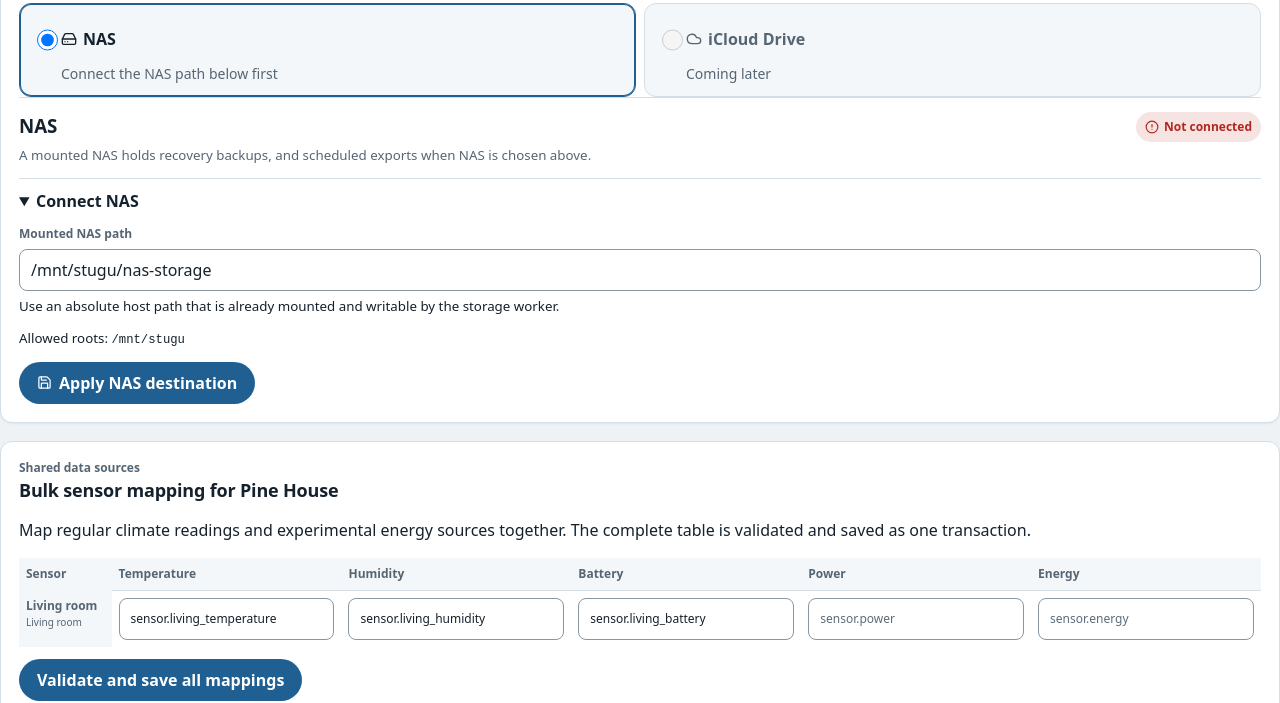
Test case: SetupOperationsPanel › loads, edits, and atomically saves mappings for the active Home
(page scrolled)
Step 1. Replace the text in the field named "Living room Temperature source ID" with " sensor.reviewed_temperature " → (227, 619), box top-left (119, 598), bottom-right (334, 640)
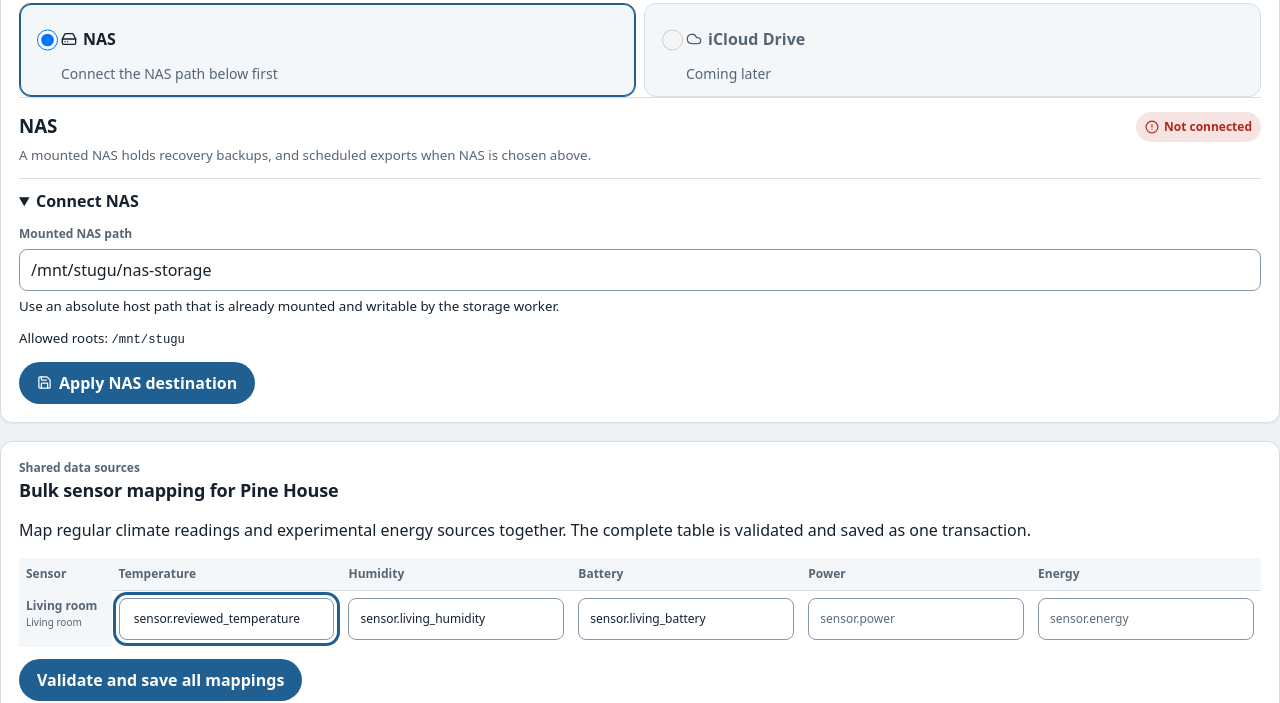
Step 2. Click the button "Validate and save all mappings" → (161, 680), box top-left (19, 659), bottom-right (302, 701)
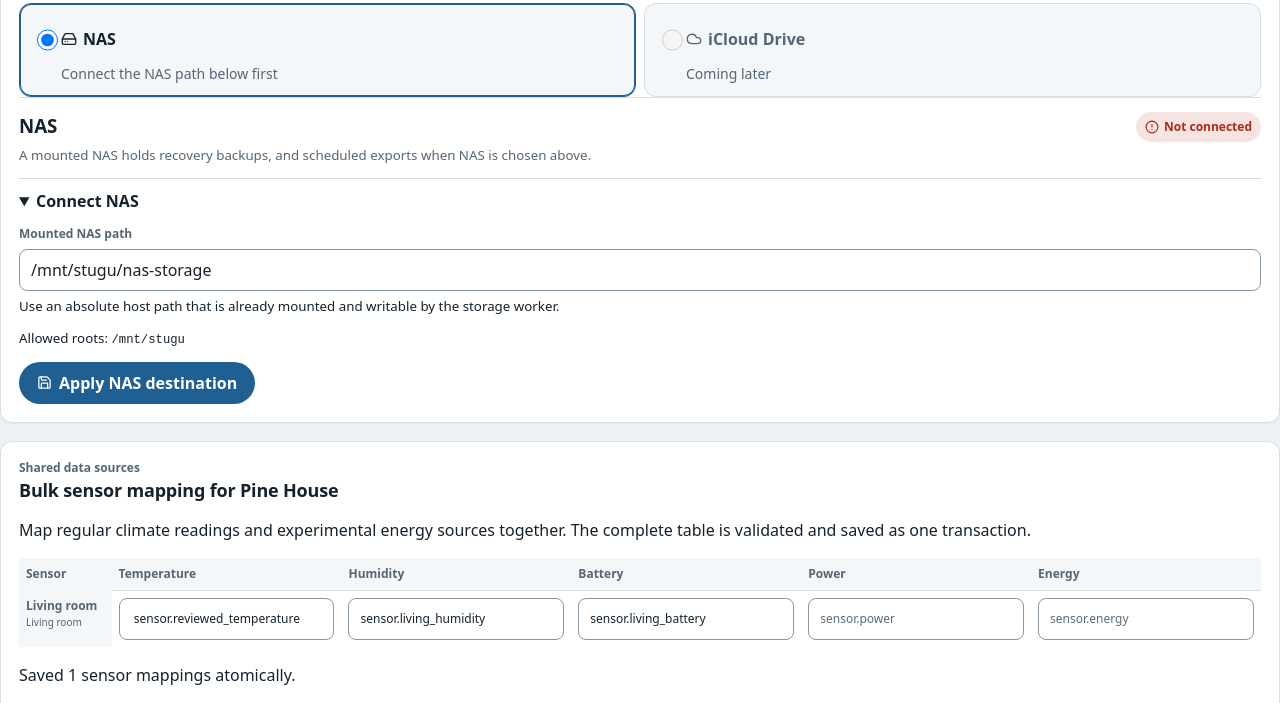
Now the message reads "Saved 1 sensor mappings atomically.", box top-left (19, 664), bottom-right (296, 686)
